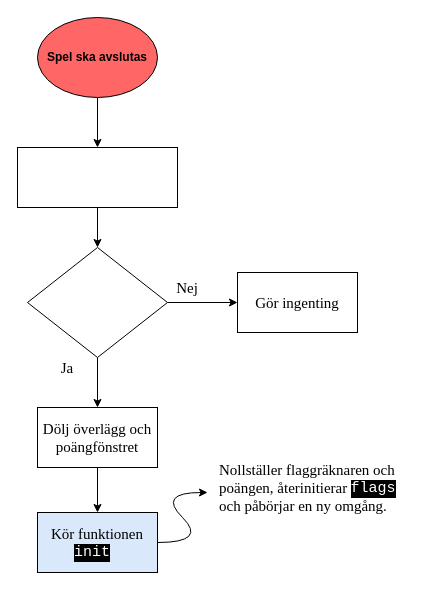
Some shapes in this 425 by 590 pixel diagram are drawn without their labels. Here are the shapes that lost their labels. From the top down, the box of each, then its label:
(16, 146, 178, 208): Visa blurrigt överlägg och poängen i ett fönster
(26, 246, 168, 358): Musklick på över- lägg eller knapp?
